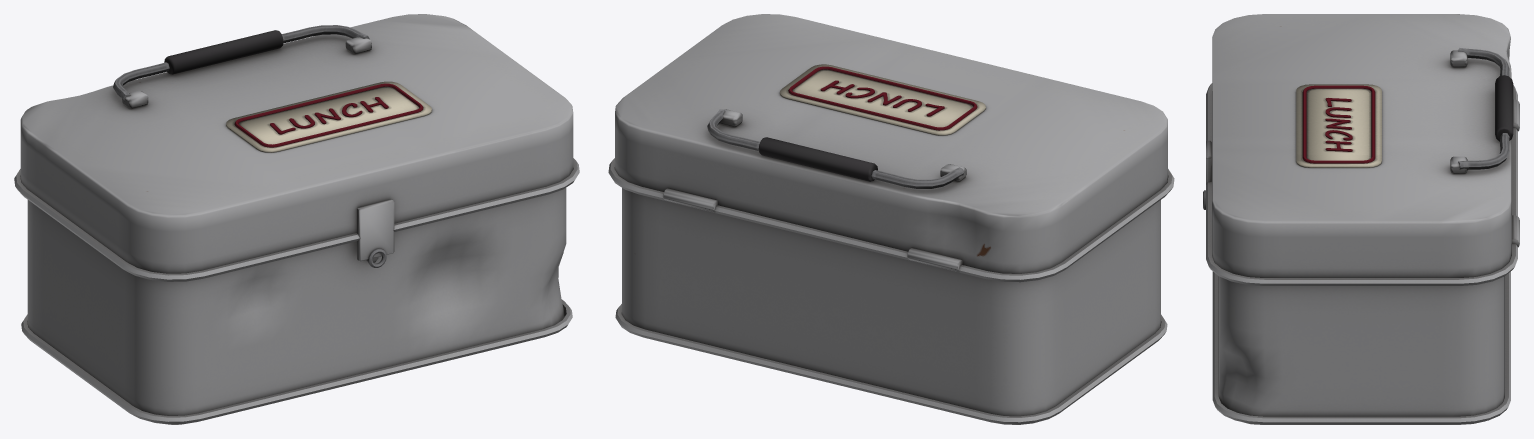
The model's file is LostLunchTin.fbx.
3 renders of one model, left to right at view 1: azimuth 30°, elevation 25°; view 2: azimuth 150°, elevation 25°; view 3: azimuth 270°, elevation 25°, orthographic. The views are drawn at different scales.
Visible parts, largest first — view 1: LostLunchTin; view 2: LostLunchTin; view 3: LostLunchTin.
Boxes of the visible parts, x1,y1,x2,y2 form: LostLunchTin: [14, 14, 579, 424]; LostLunchTin: [608, 14, 1174, 424]; LostLunchTin: [1203, 14, 1519, 424].
Size of the model in its own units: 88.6 by 43.2 by 55.46.
